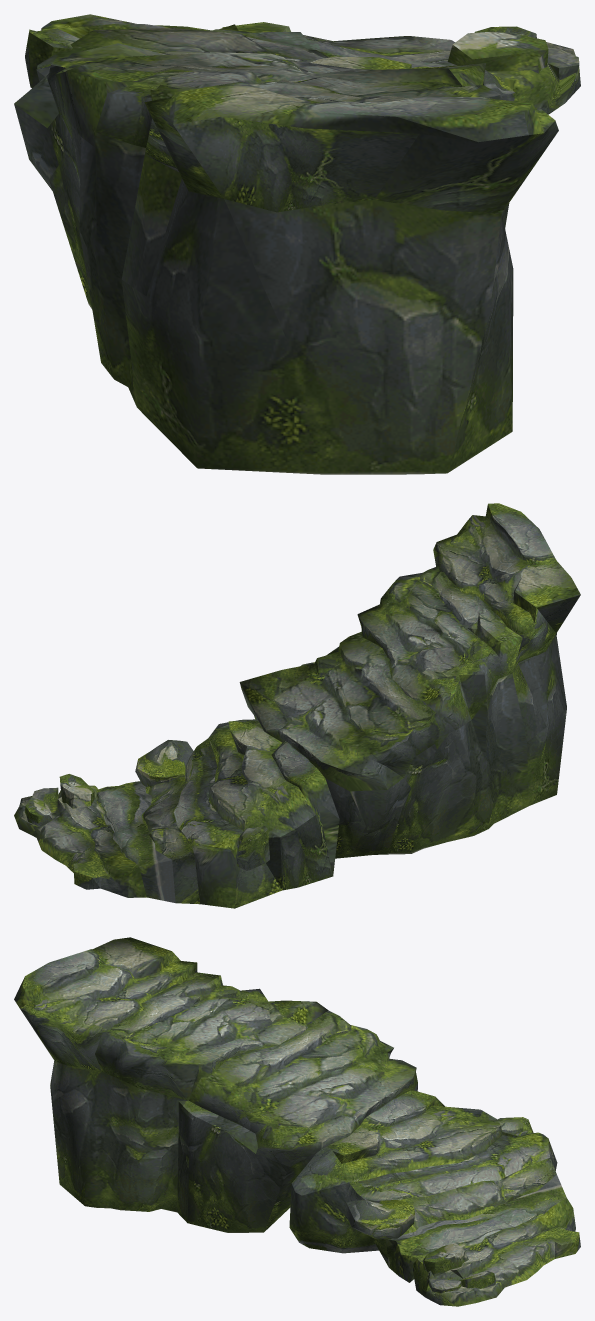
Rendered from yj_shitou_4.FBX.
The picture shows the model from 3 angles, top to bottom: view 1: azimuth 30°, elevation 25°; view 2: azimuth 150°, elevation 25°; view 3: azimuth 270°, elevation 25°; orthographic projection. The views are drawn at different scales.
Parts seen in each view (by area): view 1: yj_shitou_4; view 2: yj_shitou_4; view 3: yj_shitou_4.
Part boxes in pixels (box(x1,y1,x2,y2)): yj_shitou_4: box(14, 14, 580, 474); yj_shitou_4: box(14, 503, 580, 908); yj_shitou_4: box(14, 937, 580, 1306).
Size of the model in its own units: 2832 by 1499 by 3630.
